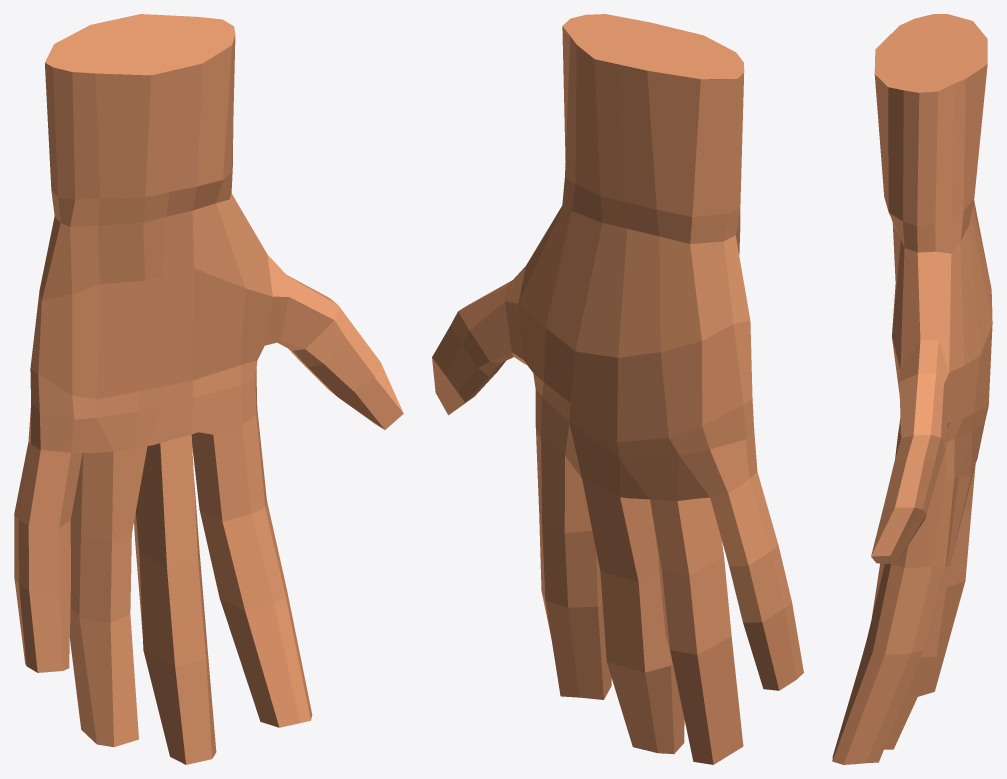
Rendered from hand.fbx.
3 views of the same model, side by side, from view 1: azimuth 30°, elevation 25°; view 2: azimuth 150°, elevation 25°; view 3: azimuth 270°, elevation 25° (orthographic). The views are drawn at different scales.
Visible parts, largest first — view 1: Hand; view 2: Hand; view 3: Hand.
Part boxes in pixels (x1,y1,x2,y2): Hand: (14, 14, 403, 764); Hand: (432, 14, 803, 764); Hand: (832, 14, 992, 764).
Size of the model in its own units: 463 by 867 by 184.
